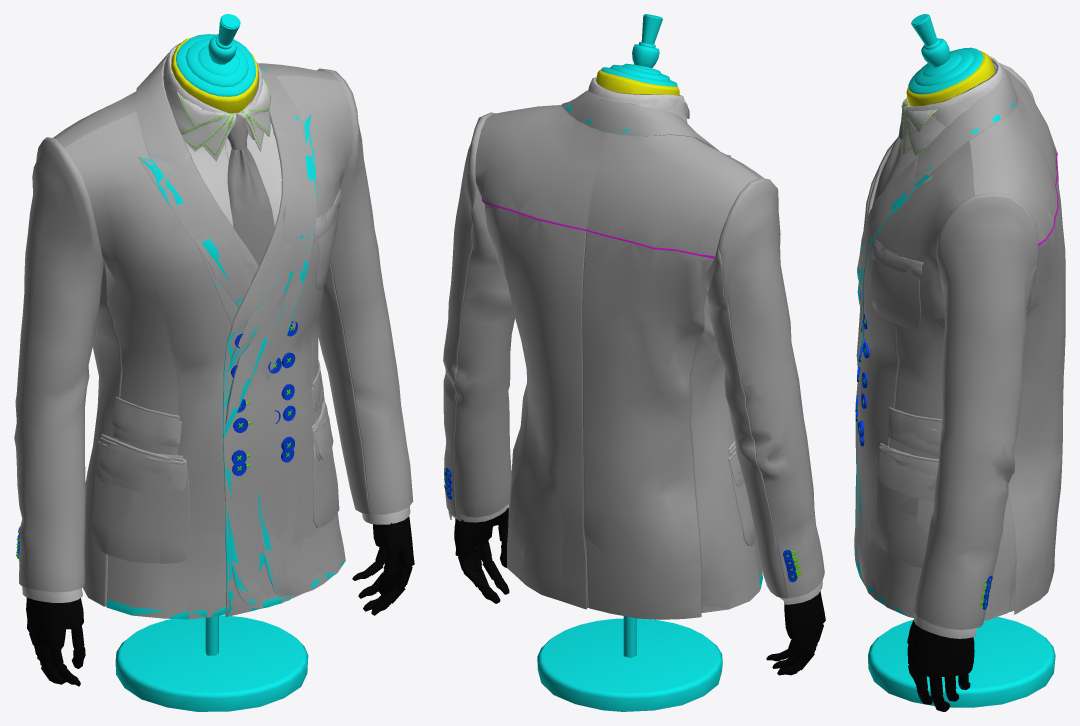
File: xifu_s.fbx
3 renders of one model, left to right at view 1: azimuth 30°, elevation 25°; view 2: azimuth 150°, elevation 25°; view 3: azimuth 270°, elevation 25°, orthographic. The views are drawn at different scales.
Parts seen in each view (by area): view 1: zhenkachai, danpai_qianfu, jiazi, suanpai_qianfu, shou, youdaigaicundai, bukaica, suanpai_qinguoling_1, chenyi1, danpai_qinguoling_1, lingdai1, youdaigaitiedai (+35 smaller); view 2: youguojian, zhenkachai, jiazi, bukaica, zhongca, shou, ceca, suanpai_qinguoling_1, xifulingzi, youdaigaicundai, suanpai_qinguoling_2, chenyi1; view 3: zhenkachai, youguojian, jiazi, danpai_qianfu, suanpai_qianfu, shou, bukaica, tiedai, youdaigaicundai, ceca, yaotiedai, xifulingzi (+23 smaller).
Part boxes in pixels (x1=…): zhenkachai: x1=14, y1=68, x2=413, y2=592; danpai_qianfu: x1=64, y1=75, x2=352, y2=618; jiazi: x1=115, y1=14, x2=308, y2=711; suanpai_qianfu: x1=111, y1=214, x2=345, y2=572; shou: x1=26, y1=516, x2=414, y2=686; youdaigaicundai: x1=93, y1=415, x2=335, y2=563; bukaica: x1=57, y1=63, x2=338, y2=606; suanpai_qinguoling_1: x1=134, y1=54, x2=309, y2=424; chenyi1: x1=22, y1=122, x2=410, y2=602; danpai_qinguoling_1: x1=169, y1=112, x2=316, y2=380; lingdai1: x1=227, y1=115, x2=274, y2=265; youdaigaitiedai: x1=91, y1=426, x2=339, y2=563; youguojian: x1=475, y1=105, x2=758, y2=612; zhenkachai: x1=443, y1=112, x2=824, y2=598; jiazi: x1=537, y1=14, x2=722, y2=711; bukaica: x1=485, y1=105, x2=759, y2=612; zhongca: x1=544, y1=471, x2=631, y2=616; shou: x1=454, y1=507, x2=825, y2=675; ceca: x1=507, y1=491, x2=701, y2=619; suanpai_qinguoling_1: x1=561, y1=90, x2=716, y2=148; xifulingzi: x1=563, y1=91, x2=677, y2=136; youdaigaicundai: x1=728, y1=454, x2=754, y2=545; suanpai_qinguoling_2: x1=573, y1=94, x2=718, y2=150; chenyi1: x1=448, y1=503, x2=822, y2=604; zhenkachai: x1=914, y1=63, x2=1038, y2=629; youguojian: x1=969, y1=69, x2=1065, y2=620; jiazi: x1=868, y1=14, x2=1055, y2=707; danpai_qianfu: x1=859, y1=140, x2=975, y2=616; suanpai_qianfu: x1=855, y1=318, x2=930, y2=616; shou: x1=907, y1=619, x2=974, y2=711; bukaica: x1=970, y1=96, x2=1062, y2=619; tiedai: x1=871, y1=242, x2=920, y2=328; youdaigaicundai: x1=877, y1=447, x2=935, y2=534; ceca: x1=1013, y1=526, x2=1051, y2=614; yaotiedai: x1=876, y1=449, x2=923, y2=567; xifulingzi: x1=927, y1=65, x2=1017, y2=170.
Size of the model in its own units: 59.02 by 98.59 by 28.96.
